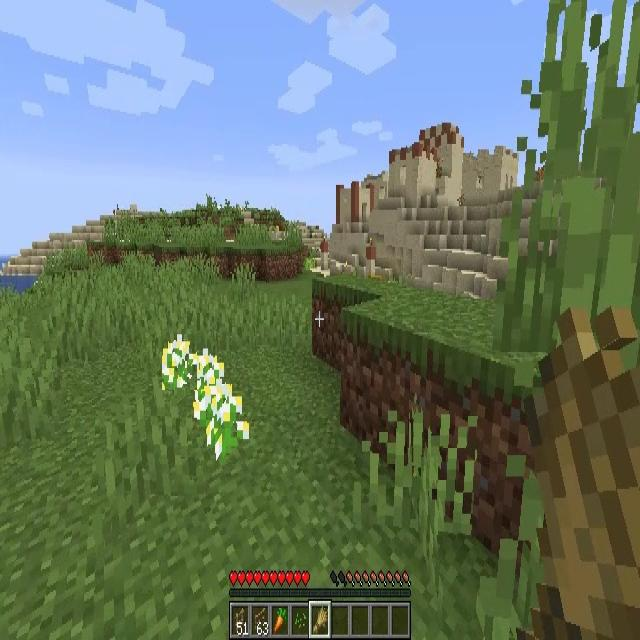flower: (207, 394, 248, 458), (194, 353, 231, 420), (162, 340, 197, 390)
